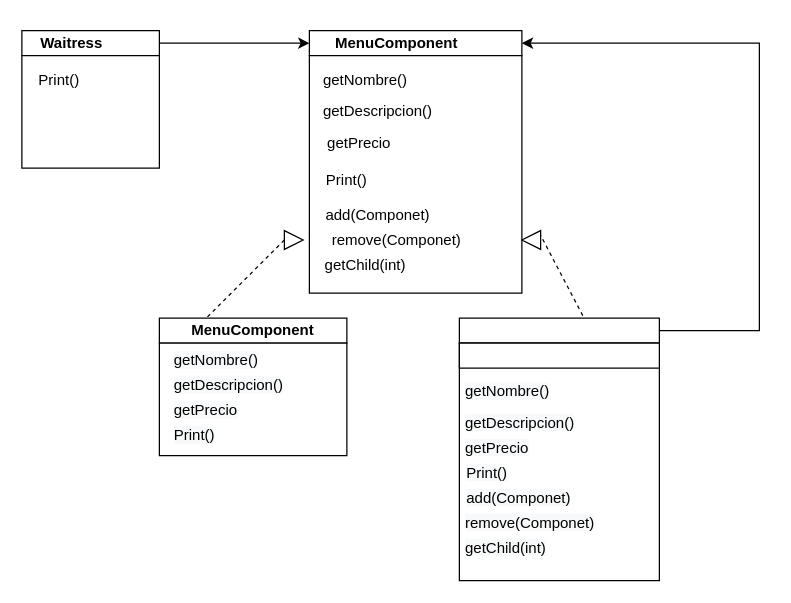
Some shapes in this 791 by 603 pixel diagram are drawn without their labels. Here are the shapes that lost their labels. From the top down, the box of each, then its label:
(458, 317, 659, 343): Menu
(458, 342, 659, 368): menuComponets
